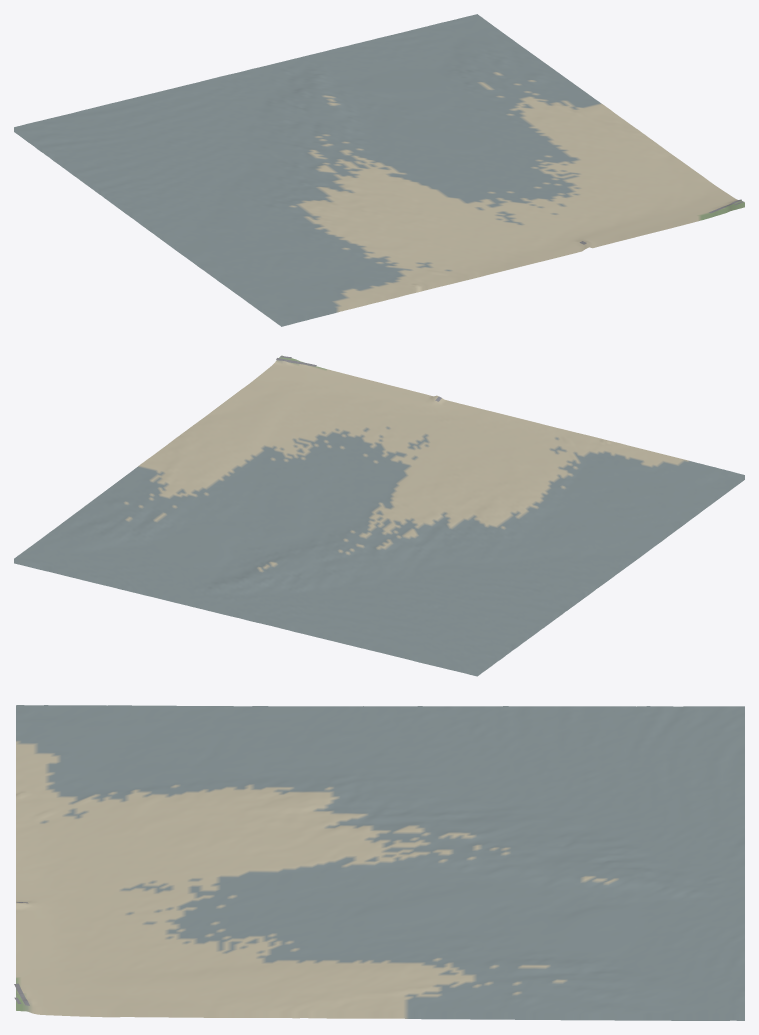
3 renders of one model, top to bottom at view 1: azimuth 30°, elevation 25°; view 2: azimuth 150°, elevation 25°; view 3: azimuth 270°, elevation 25°, orthographic. The views are drawn at different scales.
Visible parts, largest first — view 1: prim0; view 2: prim0; view 3: prim0.
Boxes of the visible parts, x1,y1,x2,y2 form: prim0: (14, 14, 744, 326); prim0: (14, 355, 744, 676); prim0: (16, 705, 744, 1020).
Bounding box in the file's own units: 513 × 13.26 × 513.
